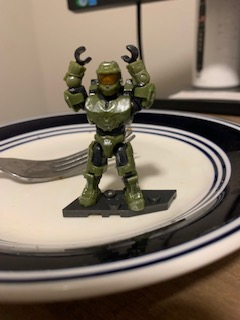chief: (59, 41, 156, 212)
spartan: (61, 43, 158, 214)
up: (61, 39, 154, 133)
